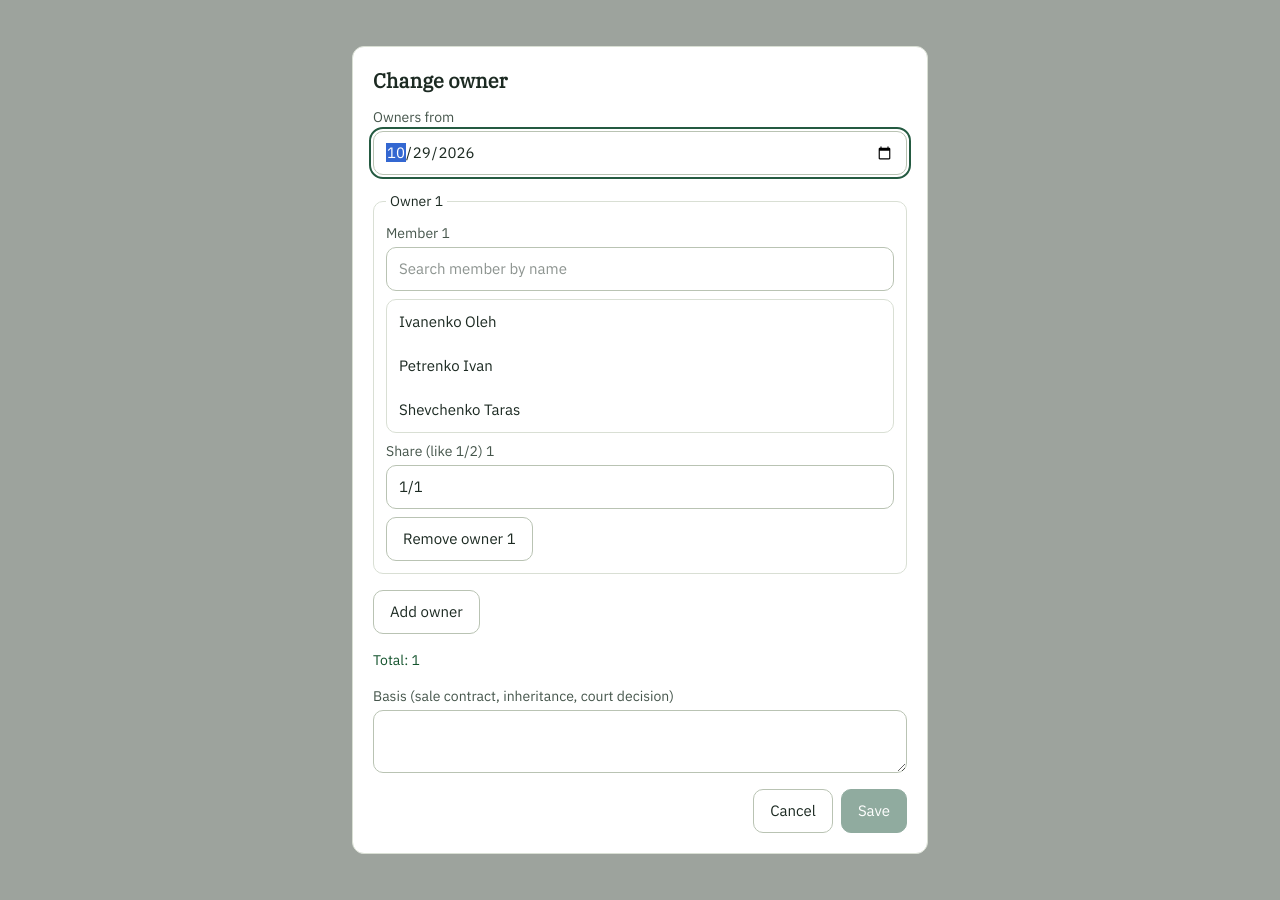
Test case: ChangeOwnerDialog › allows zero owners and explains the plot will have none
The image size is (1280, 900).
Click the button "Remove owner 1": click(459, 539) top-left (386, 517), bottom-right (533, 561)
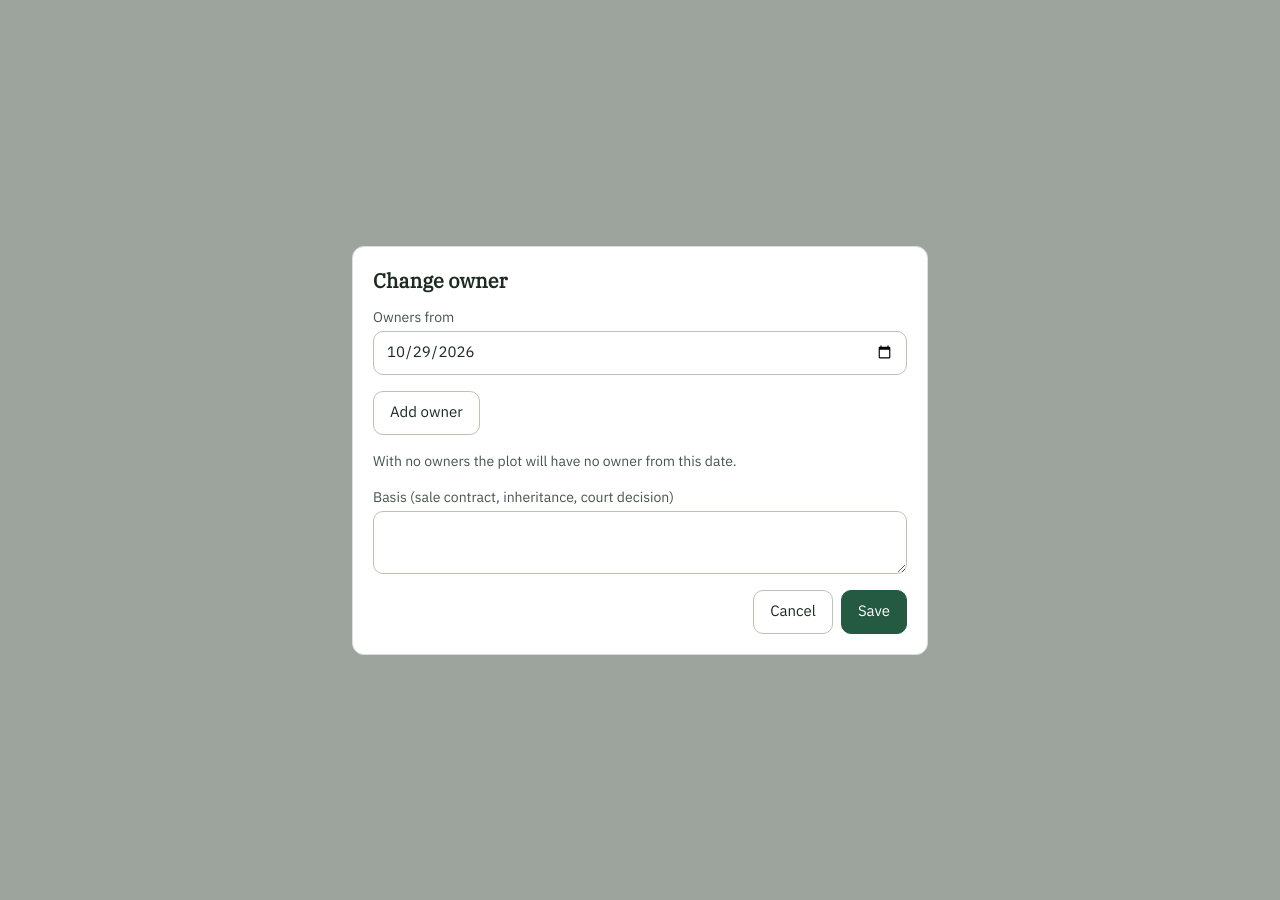
Expected: the text "With no owners the plot will have no owner from this date." is shown, top-left (373, 452), bottom-right (736, 470)
Expected: the button "Save" is enabled, top-left (841, 590), bottom-right (907, 634)
